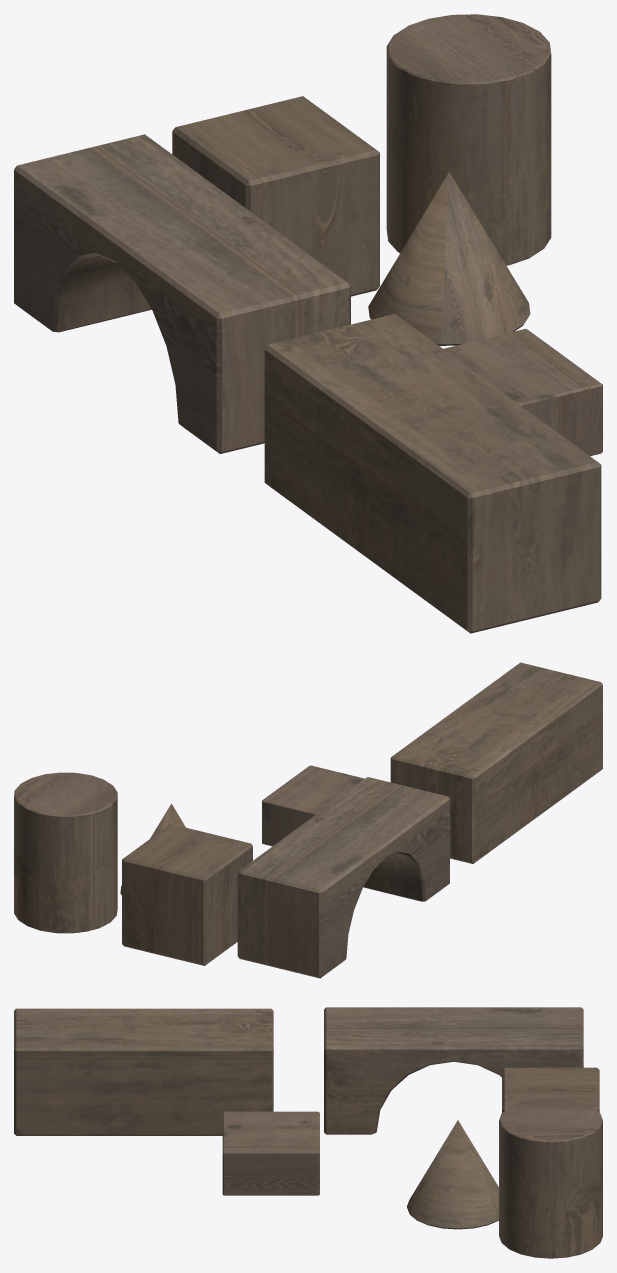
Rendered from WoodenShapesBase.fbx.
3 renders of one model, top to bottom at view 1: azimuth 30°, elevation 25°; view 2: azimuth 150°, elevation 25°; view 3: azimuth 270°, elevation 25°, orthographic. The views are drawn at different scales.
Parts seen in each view (by area): view 1: CubeLong1, Arch1, Cylinder1, Cube1, Cone1, CubeHalf1; view 2: Arch1, CubeLong1, Cylinder1, Cube1, CubeHalf1; view 3: CubeLong1, Arch1, Cylinder1, CubeHalf1, Cone1, Cube1.
Boxes of the visible parts, bbox=[...] form: CubeLong1: bbox=[264, 314, 601, 633]; Arch1: bbox=[14, 134, 350, 453]; Cylinder1: bbox=[386, 14, 551, 265]; Cube1: bbox=[172, 96, 379, 296]; Cone1: bbox=[368, 172, 530, 345]; CubeHalf1: bbox=[443, 328, 602, 456]; Arch1: bbox=[237, 777, 449, 978]; CubeLong1: bbox=[390, 662, 602, 863]; Cylinder1: bbox=[14, 772, 117, 933]; Cube1: bbox=[122, 824, 252, 965]; CubeHalf1: bbox=[262, 765, 364, 846]; CubeLong1: bbox=[14, 1008, 273, 1135]; Arch1: bbox=[324, 1007, 583, 1134]; Cylinder1: bbox=[499, 1098, 602, 1258]; CubeHalf1: bbox=[222, 1111, 319, 1195]; Cone1: bbox=[407, 1120, 498, 1229]; Cube1: bbox=[502, 1067, 599, 1112].
Size of the model in its own units: 14.04 by 5 by 22.67.
1 material, 1 textured.
